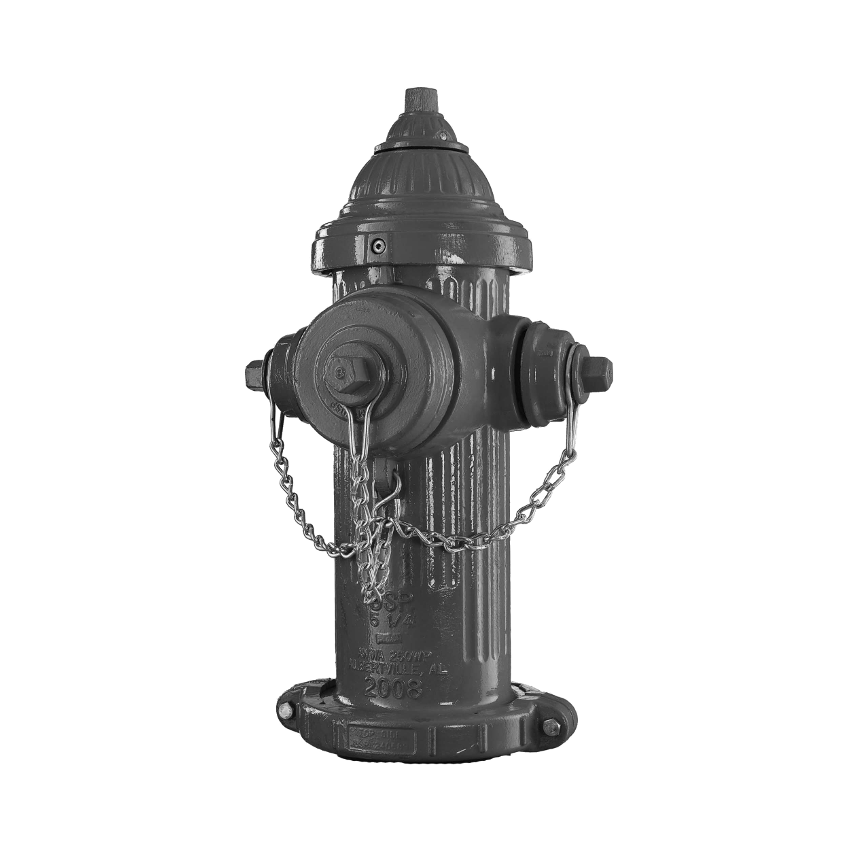FireHydrant: (215, 71, 640, 776)
